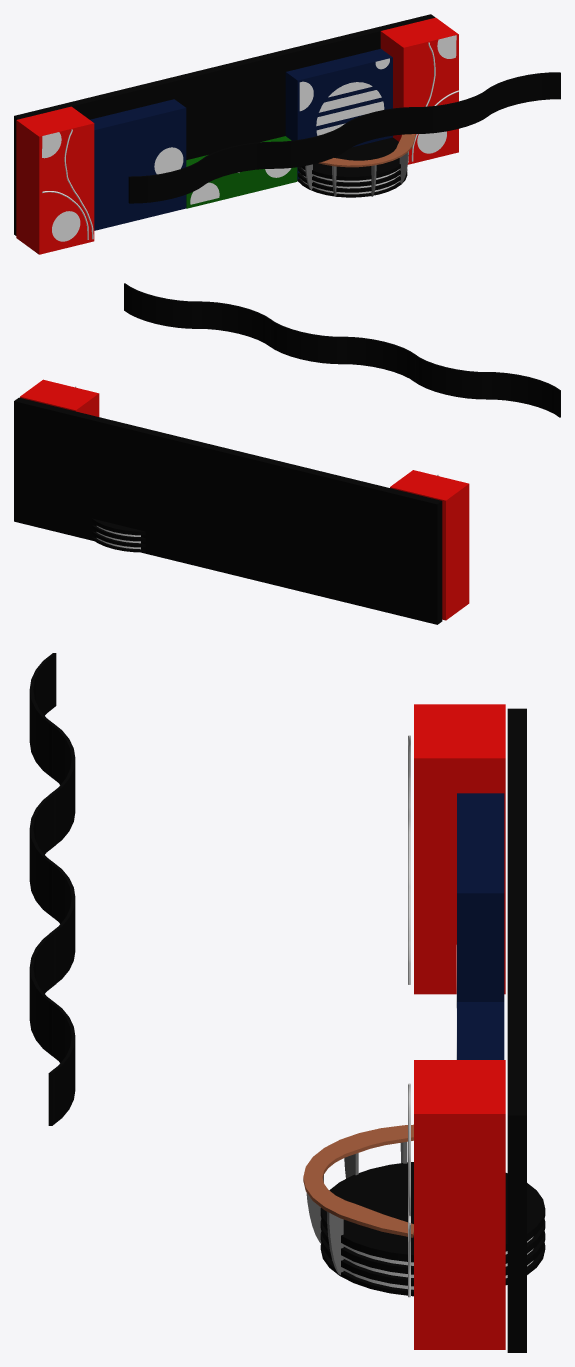
The model's file is circle_of_lights.fbx.
3 renders of one model, top to bottom at view 1: azimuth 30°, elevation 25°; view 2: azimuth 150°, elevation 25°; view 3: azimuth 270°, elevation 25°, orthographic. The views are drawn at different scales.
Visible parts, largest first — view 1: Main, Decorative Cover, Lights, Desk, Desk Lights; view 2: Main, Decorative Cover, Desk; view 3: Main, Desk, Decorative Cover.
Part boxes in pixels (x1,y1,x2,y2): Main: [14, 14, 458, 254]; Decorative Cover: [128, 72, 560, 203]; Lights: [42, 35, 456, 241]; Desk: [298, 134, 415, 197]; Desk Lights: [301, 168, 399, 194]; Main: [14, 379, 469, 624]; Decorative Cover: [124, 283, 560, 417]; Desk: [92, 518, 145, 552]; Main: [414, 704, 526, 1352]; Desk: [303, 1124, 545, 1296]; Decorative Cover: [29, 653, 75, 1125].
Size of the model in its own units: 1261 by 405 by 654.
